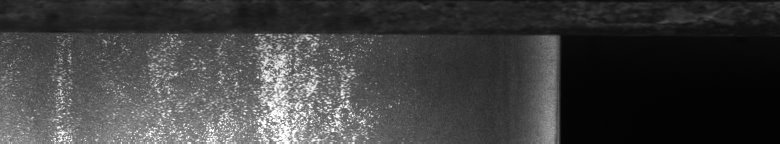kb: (4, 28, 400, 136)
